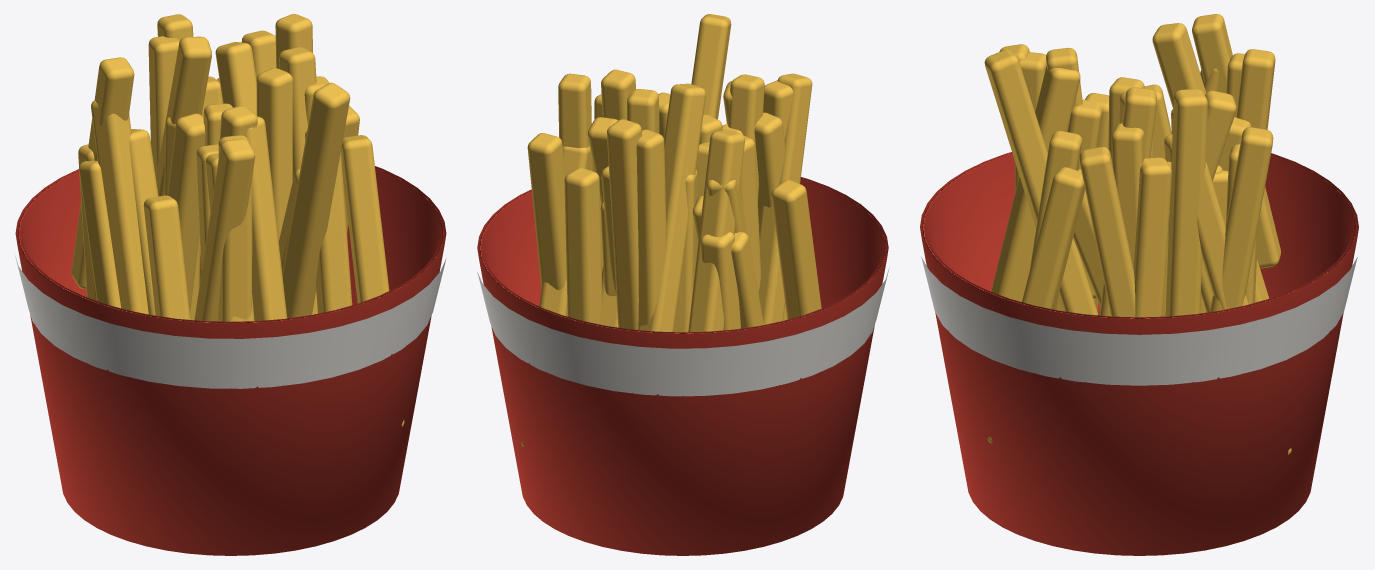
The model's file is batata-frita.glb.
The picture shows the model from 3 angles, left to right: view 1: azimuth 30°, elevation 25°; view 2: azimuth 150°, elevation 25°; view 3: azimuth 270°, elevation 25°; orthographic projection. The views are drawn at different scales.
Visible parts, largest first — view 1: batata-frita; view 2: batata-frita; view 3: batata-frita.
Boxes of the visible parts, x1=… form: batata-frita: x1=15, y1=14, x2=446, y2=555; batata-frita: x1=477, y1=14, x2=889, y2=555; batata-frita: x1=920, y1=14, x2=1358, y2=555.
Size of the model in its own units: 0.141 by 0.1572 by 0.141.
